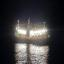fishing boat: (11, 16, 51, 45)
